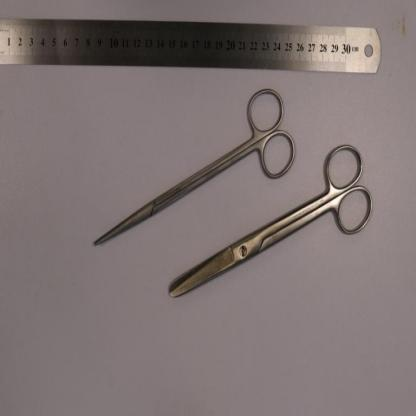7 Metzenbaum Scissors: (94, 85, 297, 247)
Dressing Scissors: (168, 143, 374, 300)
